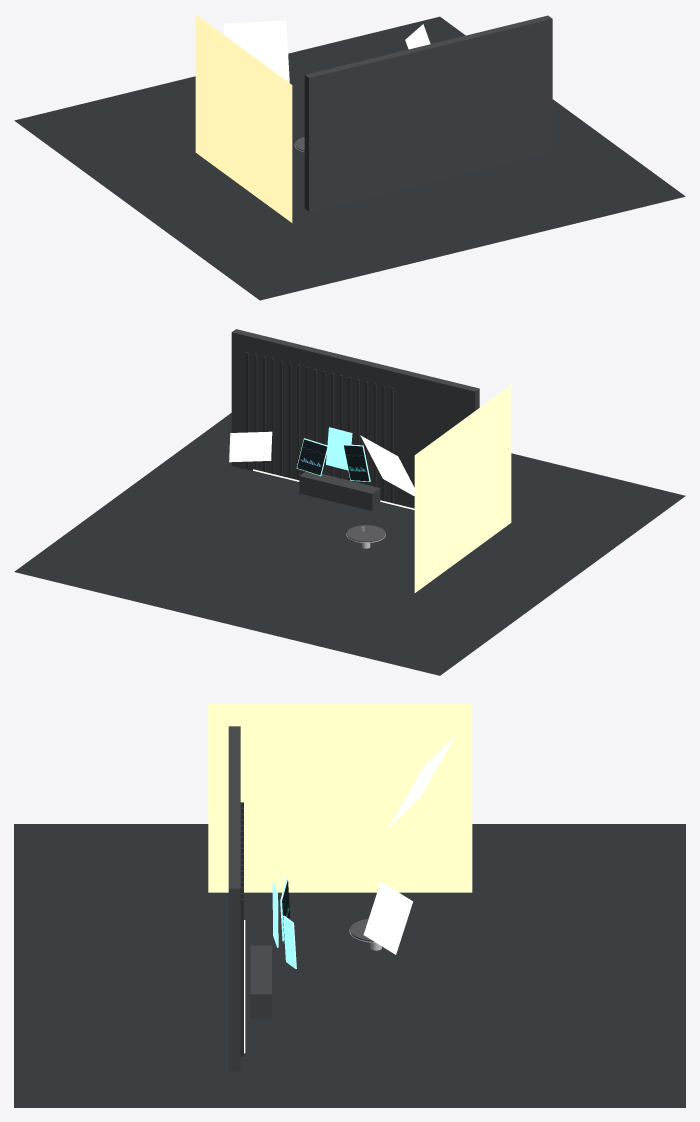
The model's file is arcform-lounge.glb.
The picture shows the model from 3 angles, top to bottom: view 1: azimuth 30°, elevation 25°; view 2: azimuth 150°, elevation 25°; view 3: azimuth 270°, elevation 25°; orthographic projection. The views are drawn at different scales.
Visible parts, largest first — view 1: Floor, BackWall, CityWindow, KeyLightCard; view 2: Floor, BackWall, CityWindow, Credenza, FillLightCard, KeyLightCard, Screen_B_Frame, Screen_C, Screen_A, TableTop; view 3: Floor, CityWindow, BackWall, FillLightCard, Credenza, KeyLightCard, Slat_17.
Part boxes in pixels (x1,y1,x2,y2): Floor: (14,16,685,300); BackWall: (304,15,552,211); CityWindow: (195,15,292,222); KeyLightCard: (223,20,289,82); Floor: (14,413,685,675); BackWall: (231,329,479,510); CityWindow: (414,385,511,592); Credenza: (299,471,380,511); FillLightCard: (229,431,272,462); KeyLightCard: (360,435,414,496); Screen_B_Frame: (326,427,352,470); Screen_C: (297,439,327,475); Screen_A: (344,445,369,481); TableTop: (347,525,385,542); Floor: (14,824,685,1107); CityWindow: (208,704,472,892); BackWall: (228,726,240,1071); FillLightCard: (363,881,412,954); Credenza: (250,945,271,1018); KeyLightCard: (388,734,456,828); Slat_17: (240,898,243,1056).
Bounding box in the file's own units: 14 × 4.68 × 14.
14 materials, 3 textured.
